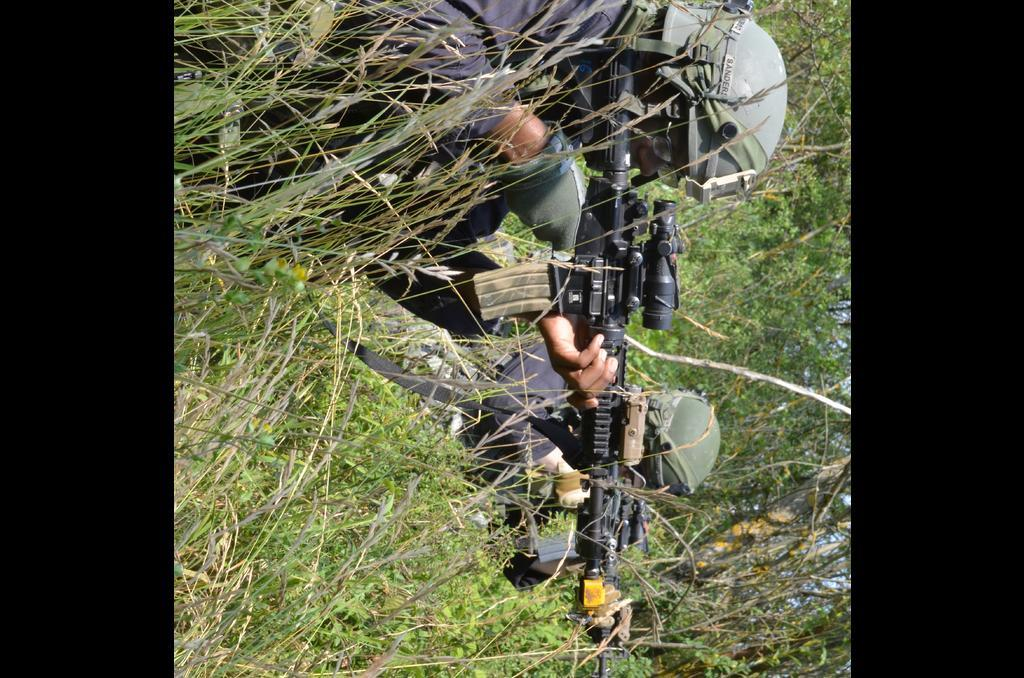gun: (471, 50, 682, 678)
